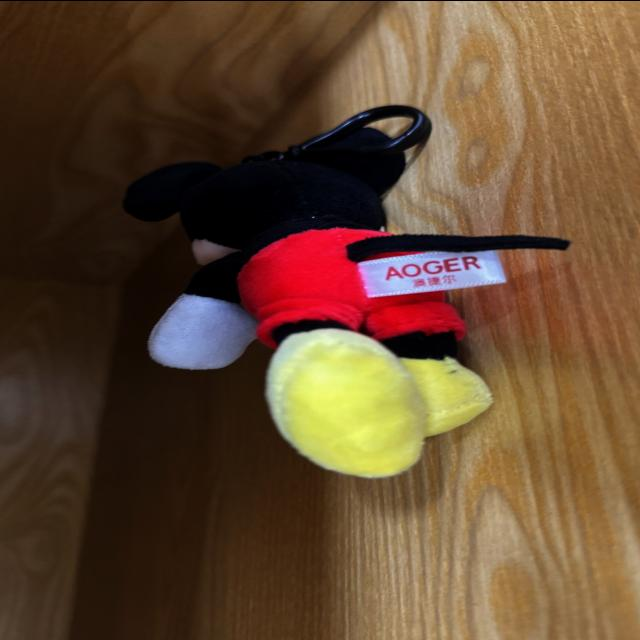mickey: (125, 128, 566, 476)
